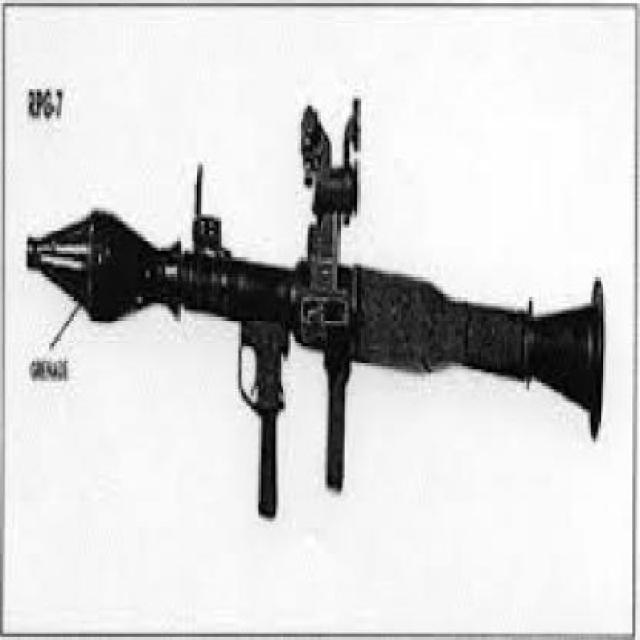weapon: (5, 74, 609, 528)
